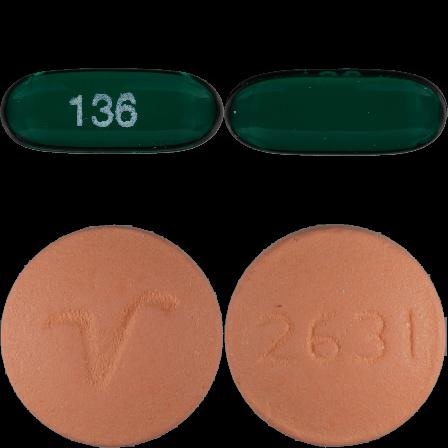68788-6372: (0, 0, 224, 224)
